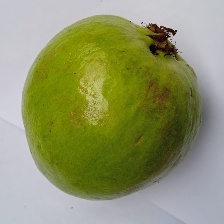guava: (45, 46, 215, 190)
